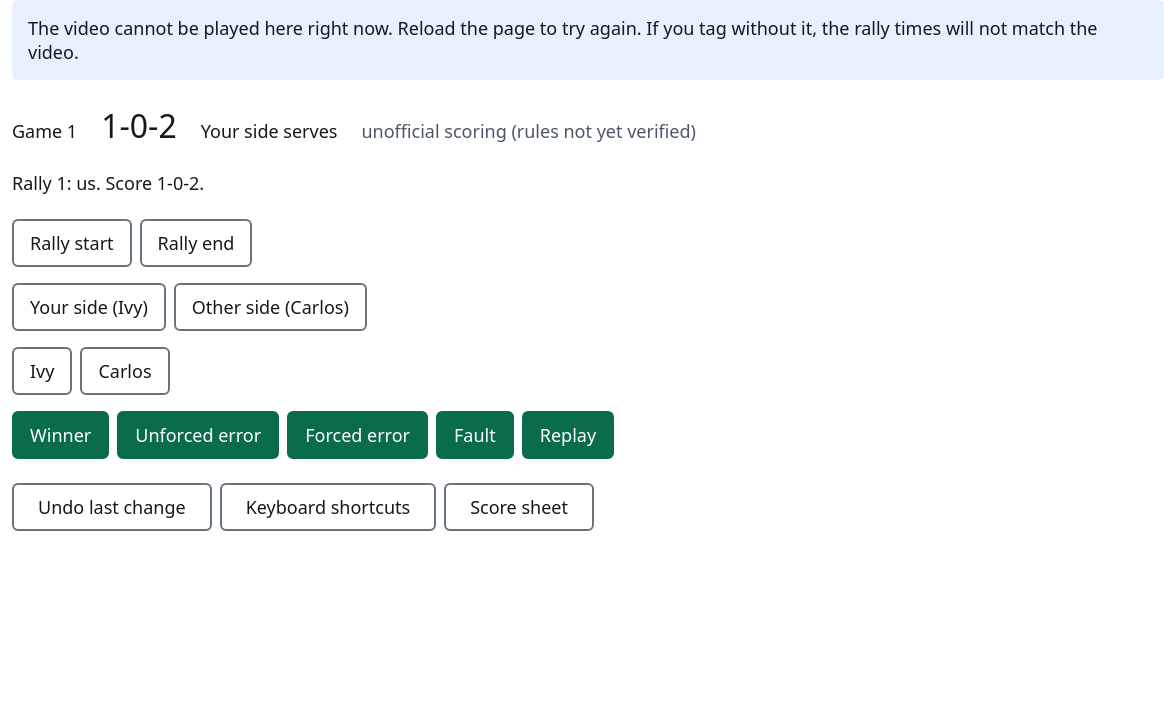
Scenario: QuickTag undo (ST-031) › nothing to undo says so and keeps the score
Click the button "Undo last change" at (112, 507), box x1=12 y1=483 x2=212 y2=531
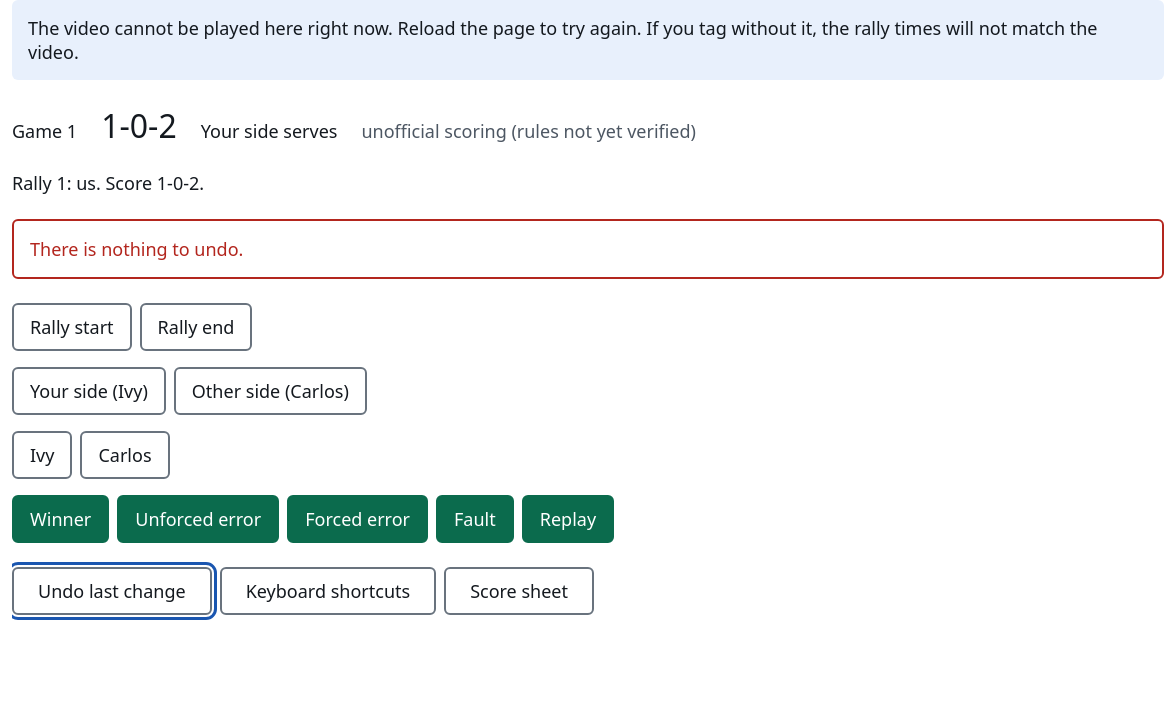
Expected: the text "1-0-2" is shown, x1=101 y1=104 x2=177 y2=147
Expected: the message "There is nothing to undo." is shown, x1=12 y1=219 x2=1163 y2=279
